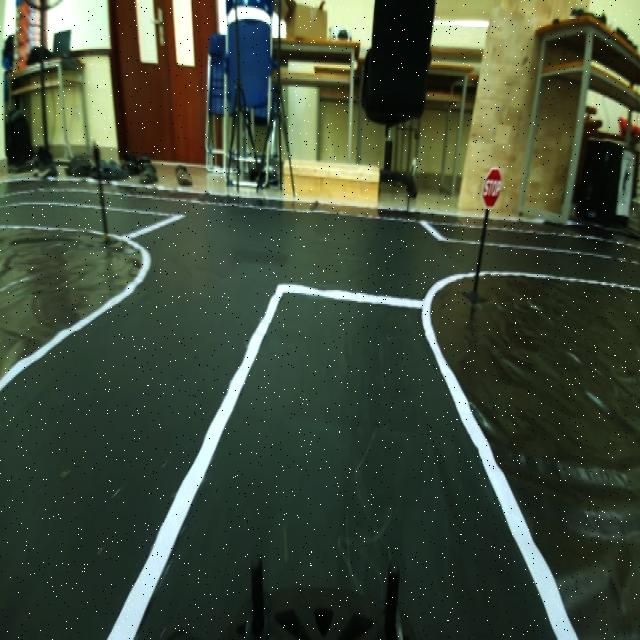stop: (479, 162, 507, 210)
